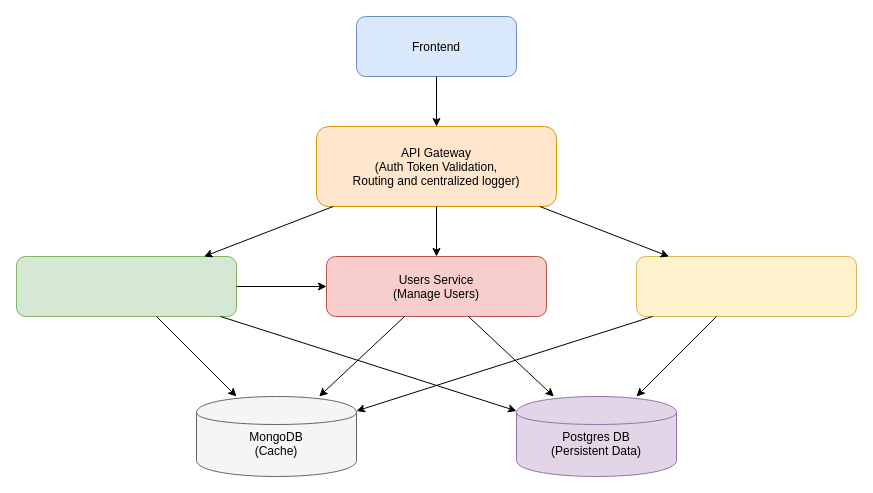
The diagram is 873 pixels wide and 493 high, and some of its shapes have lost their labels. Here are the shapes that lost their labels. From the top down, the box of each, then its label:
(16, 256, 236, 316): Auth Service (Login/Register/Refresh)
(636, 256, 856, 316): Notes Service (Manage Notes)
